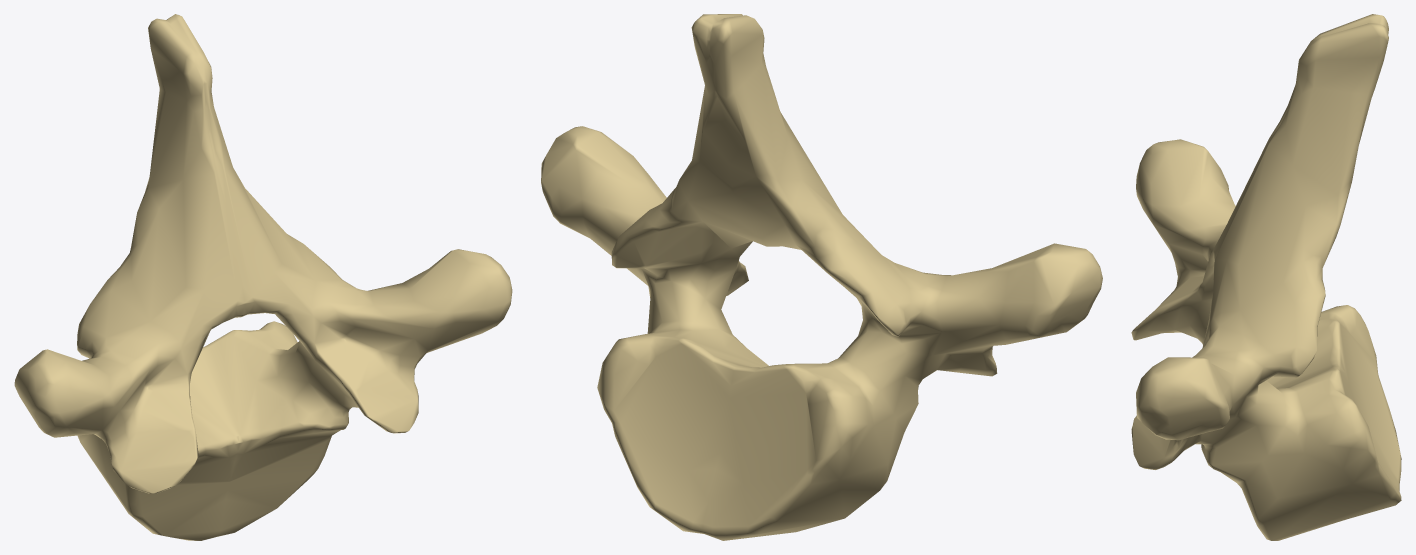
3 views of the same model, side by side, from view 1: azimuth 30°, elevation 25°; view 2: azimuth 150°, elevation 25°; view 3: azimuth 270°, elevation 25° (orthographic). The views are drawn at different scales.
Visible parts, largest first — view 1: 第二胸椎; view 2: 第二胸椎; view 3: 第二胸椎.
Part boxes in pixels (left/top/right/bottom): 第二胸椎: left=14, top=14, right=512, bottom=540; 第二胸椎: left=541, top=14, right=1102, bottom=540; 第二胸椎: left=1131, top=14, right=1401, bottom=540.
Size of the model in its own units: 0.1107 by 0.1075 by 0.0516.
